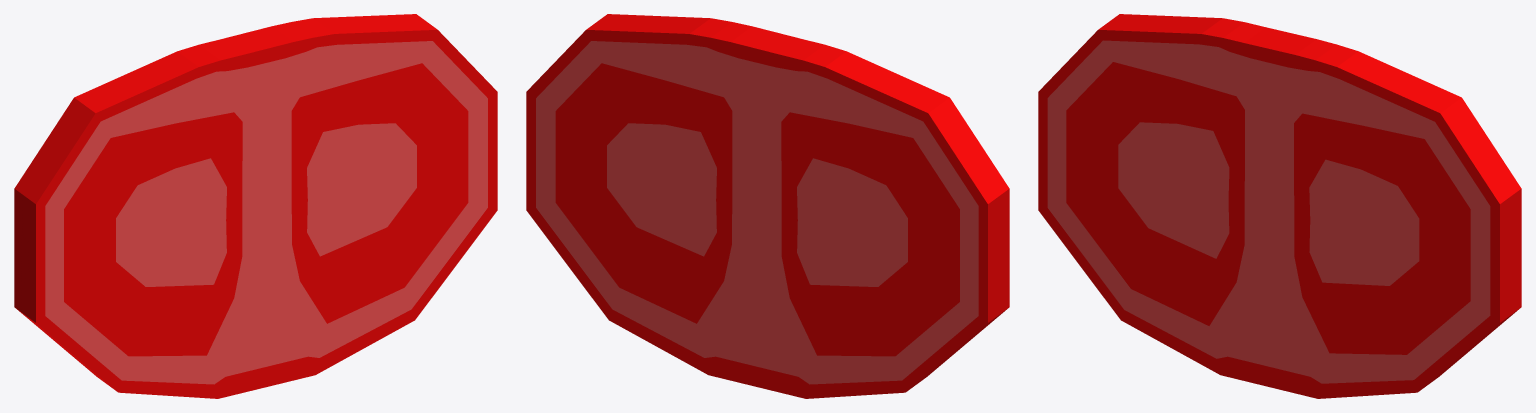
The model's file is tomato03.gltf.
3 views of the same model, side by side, from view 1: azimuth 30°, elevation 25°; view 2: azimuth 150°, elevation 25°; view 3: azimuth 330°, elevation 25° (orthographic).
Visible parts, largest first — view 1: Cylinder; view 2: Cylinder; view 3: Cylinder.
Boxes of the visible parts, x1,y1,x2,y2 form: Cylinder: (14,14,497,398); Cylinder: (526,14,1009,398); Cylinder: (1038,14,1521,398).
Bounding box in the file's own units: 0.0472 × 0.0331 × 0.00383.
Materials: 1 (1 with a texture image).
